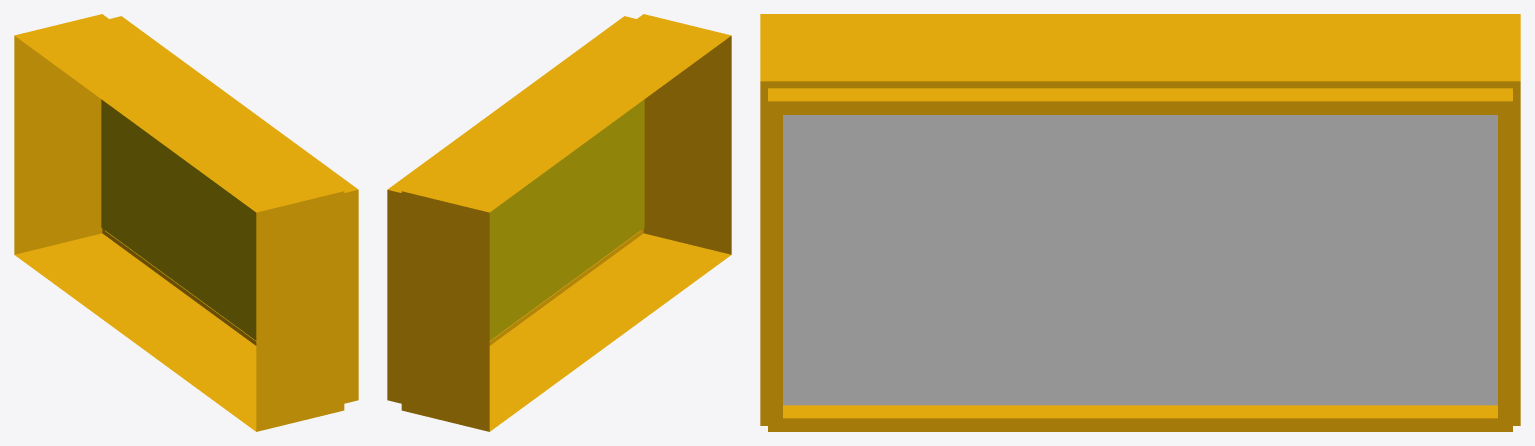
Rendered from curtain_wall_spandrel_4x1x2.dae.
The picture shows the model from 3 angles, left to right: view 1: azimuth 30°, elevation 25°; view 2: azimuth 150°, elevation 25°; view 3: azimuth 270°, elevation 25°; orthographic projection. The views are drawn at different scales.
Visible parts, largest first — view 1: Cube; view 2: Cube; view 3: Cube.
Part boxes in pixels (x1=…): Cube: x1=14, y1=14, x2=358, y2=431; Cube: x1=387, y1=14, x2=731, y2=431; Cube: x1=760, y1=14, x2=1520, y2=431.
Size of the model in its own units: 0.25 by 1 by 0.5.
